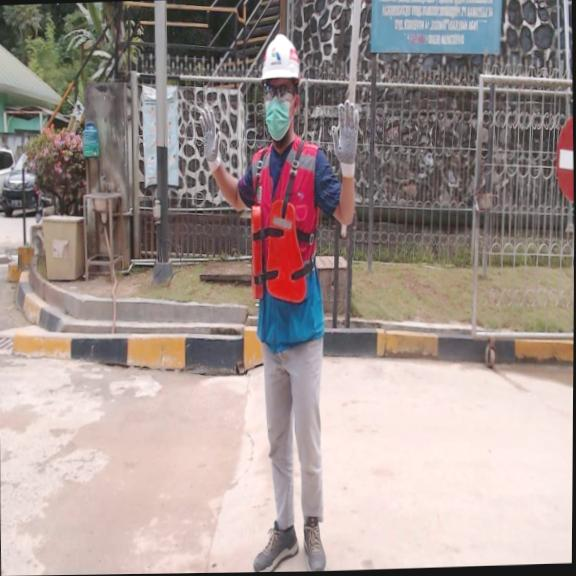safety_vest: (247, 195, 308, 306)
